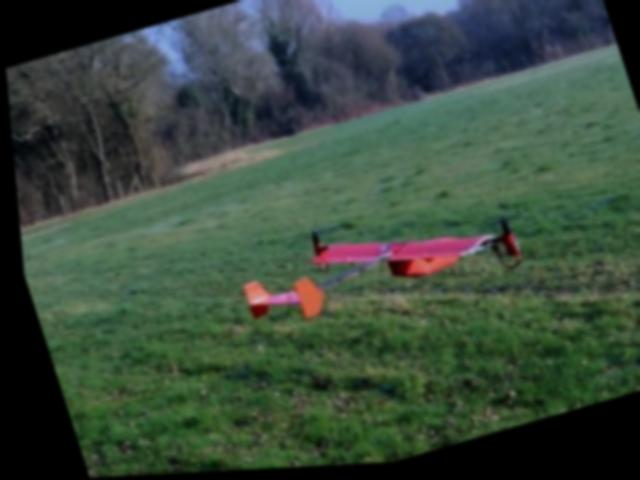uav: (221, 202, 502, 340)
